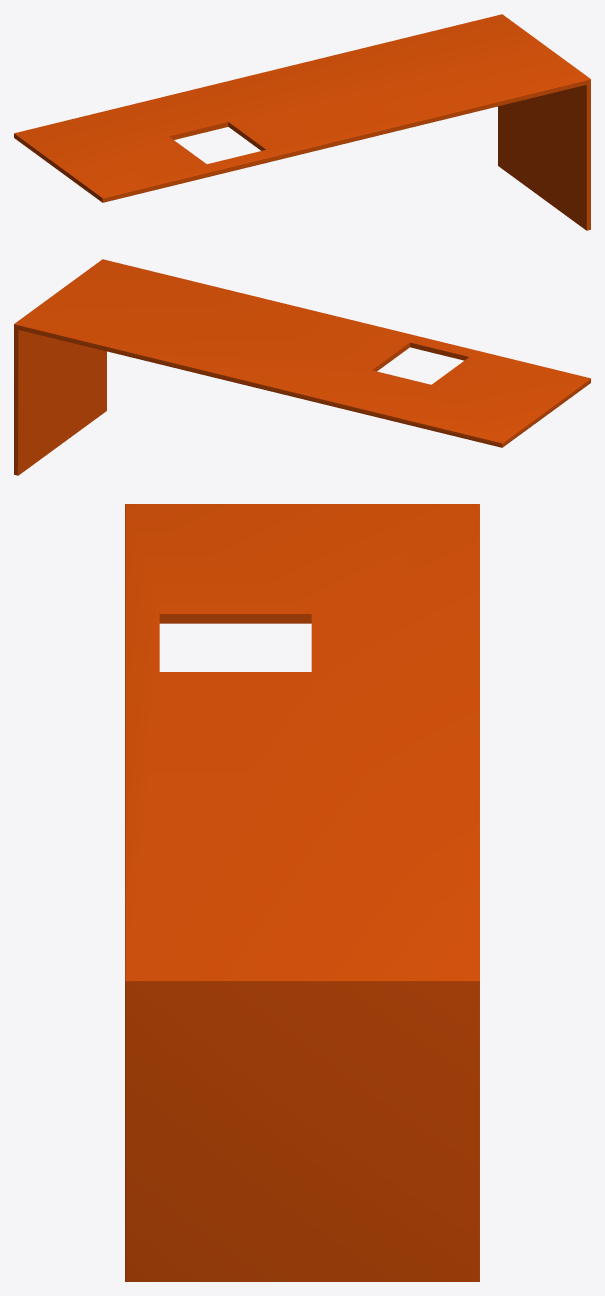
Rendered from SM_Counter_Sink_Stove.fbx.
3 renders of one model, top to bottom at view 1: azimuth 30°, elevation 25°; view 2: azimuth 150°, elevation 25°; view 3: azimuth 270°, elevation 25°, orthographic. The views are drawn at different scales.
Parts seen in each view (by area): view 1: SM_Counter_Sink_Stove; view 2: SM_Counter_Sink_Stove; view 3: SM_Counter_Sink_Stove.
Part boxes in pixels (box(x1,y1,x2,y2)): SM_Counter_Sink_Stove: box(14, 14, 590, 230); SM_Counter_Sink_Stove: box(14, 259, 590, 475); SM_Counter_Sink_Stove: box(125, 504, 479, 1281).
Size of the model in its own units: 318 by 93.73 by 100.
